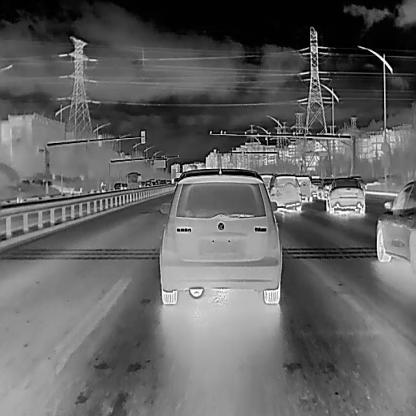bus: (124, 171, 141, 188)
car: (158, 167, 281, 305), (374, 179, 416, 265), (324, 177, 366, 214), (265, 172, 301, 210), (292, 173, 312, 199), (316, 176, 334, 199), (308, 173, 321, 196), (41, 178, 53, 188), (31, 177, 44, 185), (112, 181, 122, 190), (144, 179, 152, 186), (148, 178, 156, 184), (160, 179, 168, 185), (140, 180, 145, 187), (155, 178, 160, 184), (121, 183, 125, 189), (166, 178, 170, 183)
